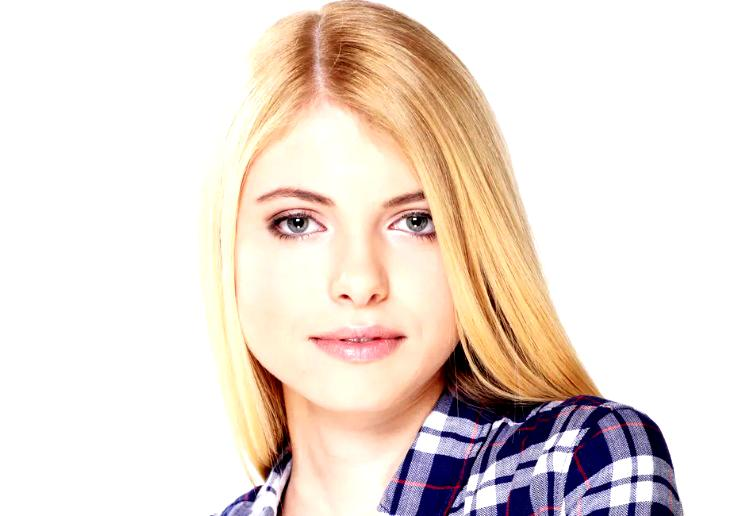face: (234, 103, 464, 400)
